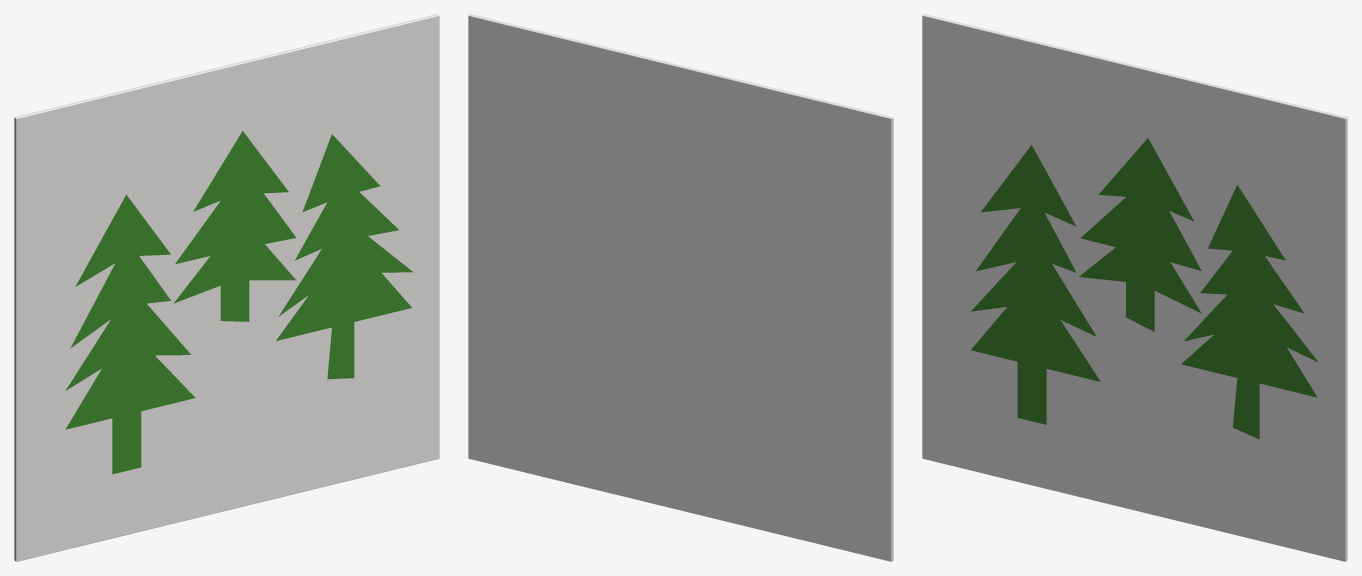
File: Frame_5.glb
3 views of the same model, side by side, from view 1: azimuth 30°, elevation 25°; view 2: azimuth 150°, elevation 25°; view 3: azimuth 330°, elevation 25° (orthographic).
Parts seen in each view (by area): view 1: Childrens_Drawing_3; view 2: Childrens_Drawing_3; view 3: Childrens_Drawing_3.
Part boxes in pixels (x1,y1,x2,y2): Childrens_Drawing_3: (14, 14, 439, 561); Childrens_Drawing_3: (468, 14, 893, 561); Childrens_Drawing_3: (922, 14, 1347, 561).
Size of the model in its own units: 0.8996 by 0.8996 by 0.00923.
1 material, 1 textured.
